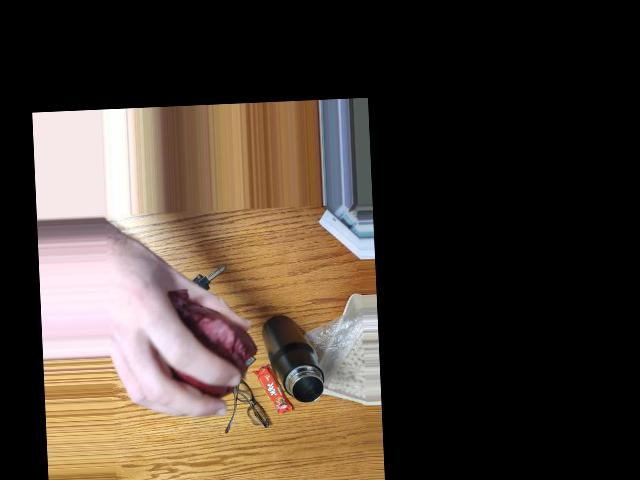onion: (169, 313, 251, 403)
